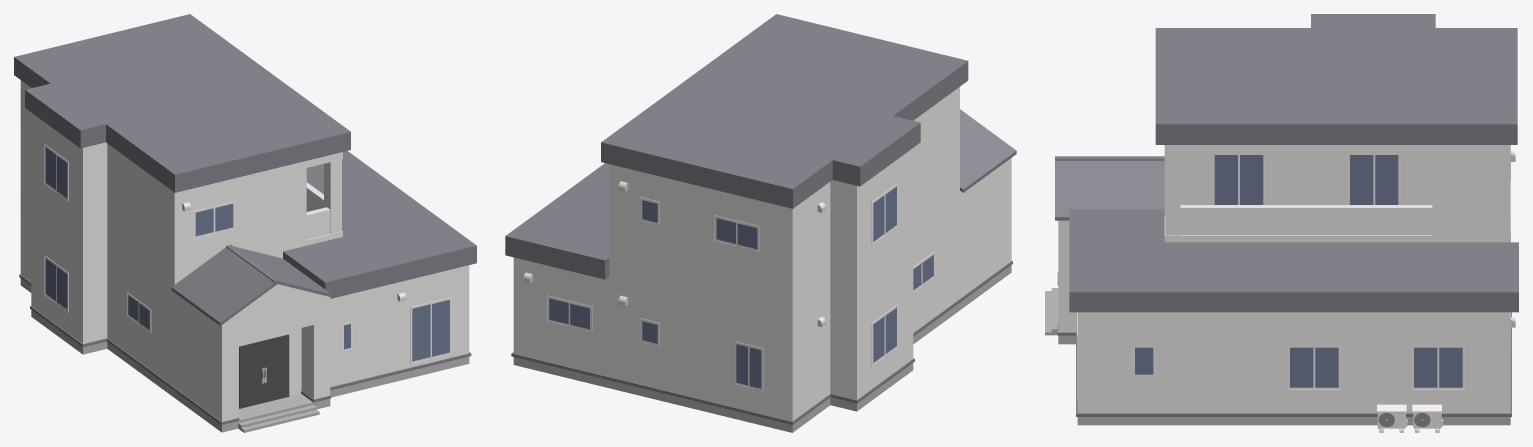
Rendered from MobHouse56.fbx.
3 views of the same model, side by side, from view 1: azimuth 30°, elevation 25°; view 2: azimuth 150°, elevation 25°; view 3: azimuth 270°, elevation 25° (orthographic). The views are drawn at different scales.
Parts seen in each view (by area): view 1: Flat_half_house02.015; view 2: Flat_half_house02.015; view 3: Flat_half_house02.015.
Boxes of the visible parts, box(x1,y1,x2,y2) form: Flat_half_house02.015: box(14, 14, 476, 432); Flat_half_house02.015: box(505, 14, 1016, 432); Flat_half_house02.015: box(1045, 14, 1518, 432).
Bounding box in the file's own units: 9.36 × 6.79 × 11.43.
